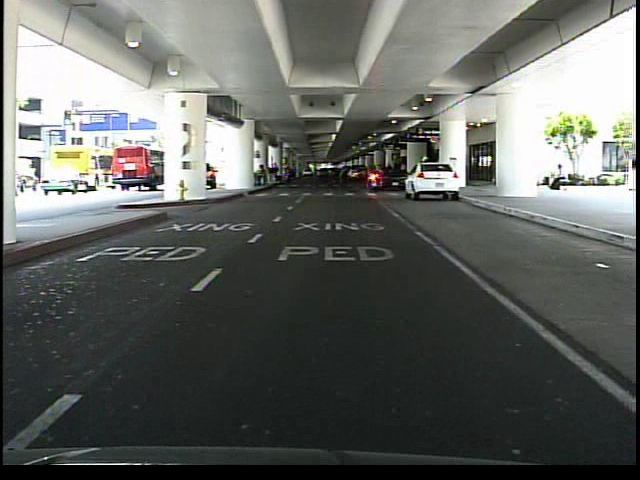person: (542, 157, 570, 194), (417, 153, 435, 198)
